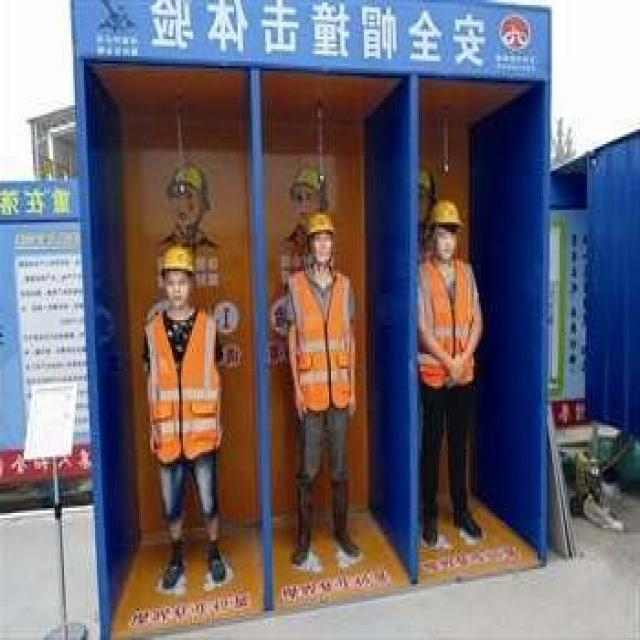Reflective-Jacket: (145, 306, 223, 460), (287, 266, 357, 413), (417, 256, 481, 391)
Safety-Helmet: (156, 242, 198, 278), (426, 198, 463, 230), (304, 210, 336, 237)
